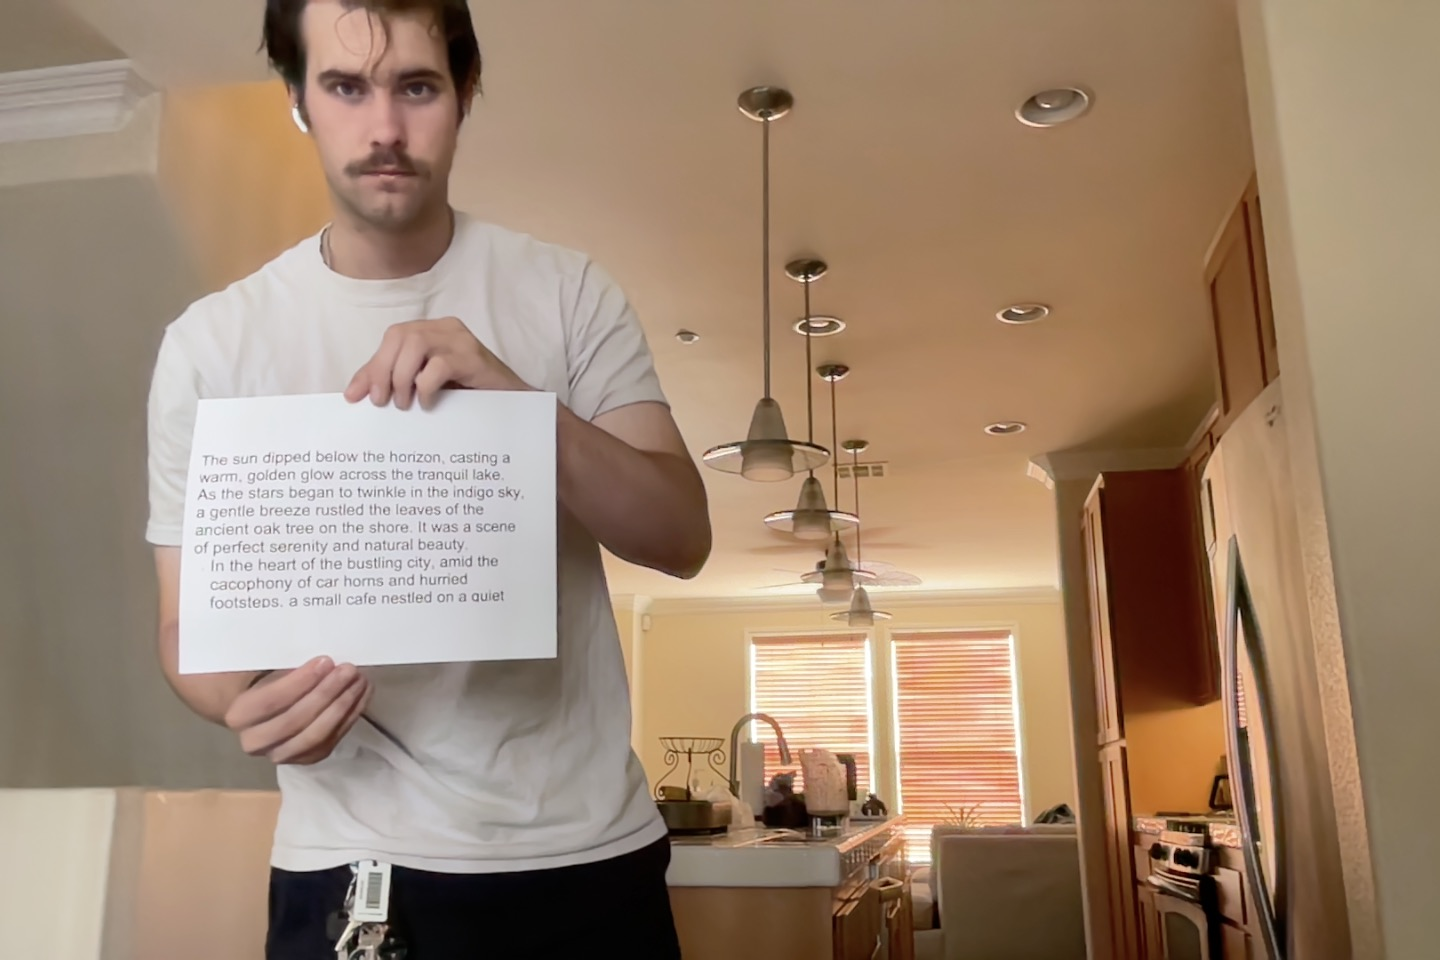paragraph: (190, 445, 534, 613)
